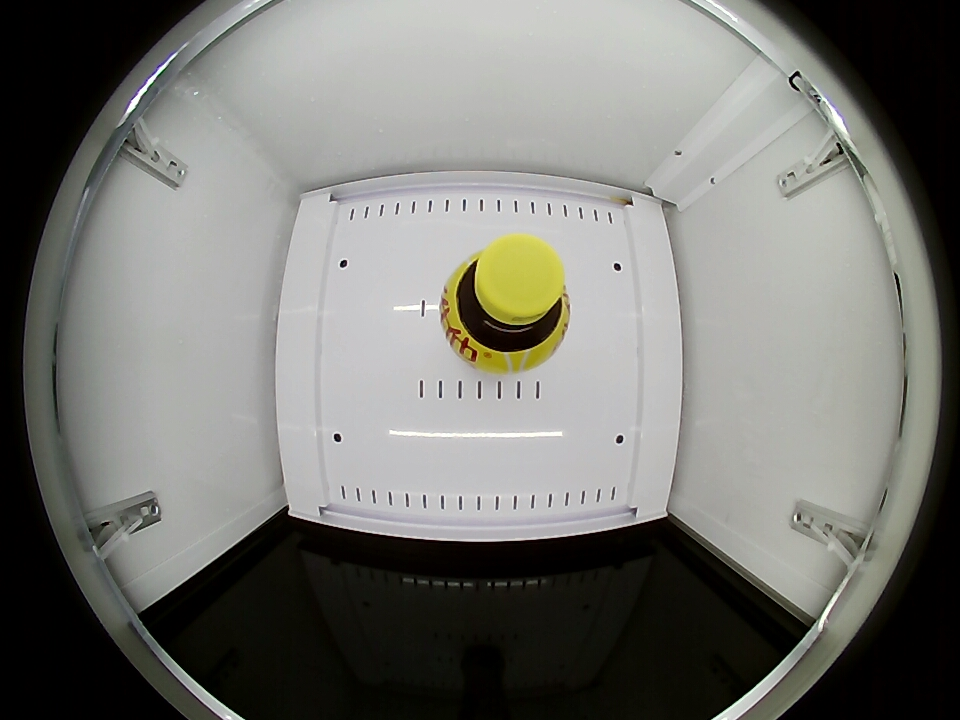weitaningmeng-bottle: (444, 233, 569, 369)
